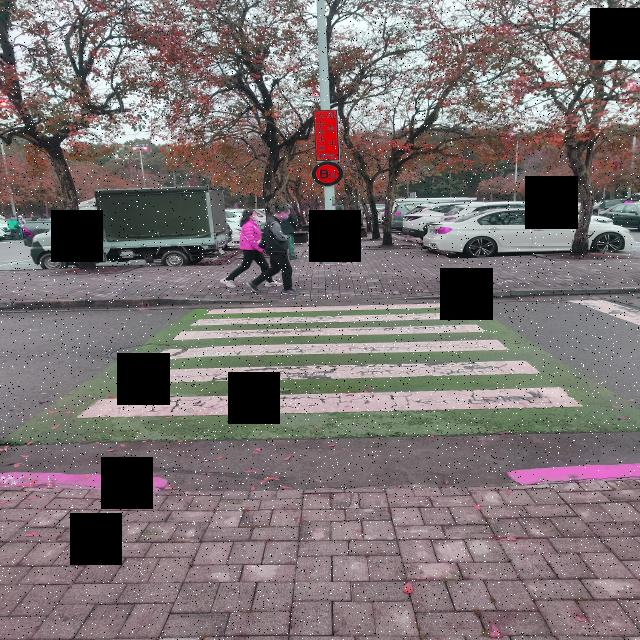zebra_crossing: (147, 133, 437, 398), (168, 101, 505, 305), (148, 115, 446, 343), (125, 132, 379, 394), (165, 104, 246, 520)
